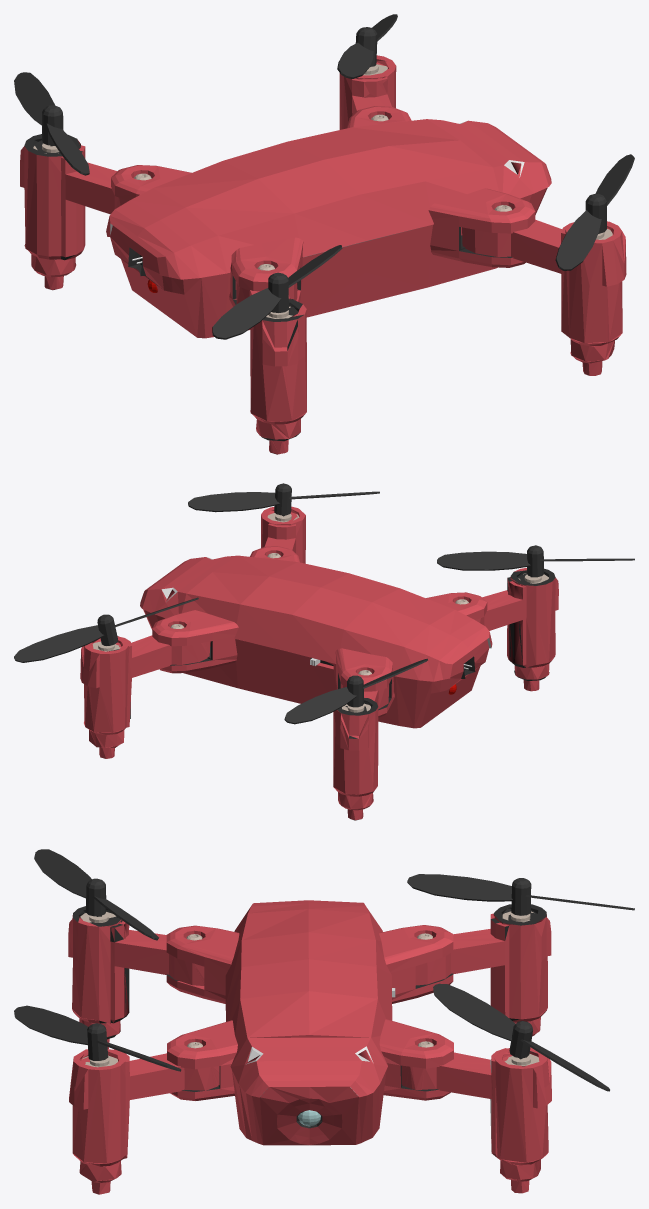
File: red_drone.gltf
3 views of the same model, one above another, from view 1: azimuth 30°, elevation 25°; view 2: azimuth 150°, elevation 25°; view 3: azimuth 270°, elevation 25° (orthographic). The views are drawn at different scales.
Bounding box in the file's own units: 7.65 × 2.83 × 8.91.
